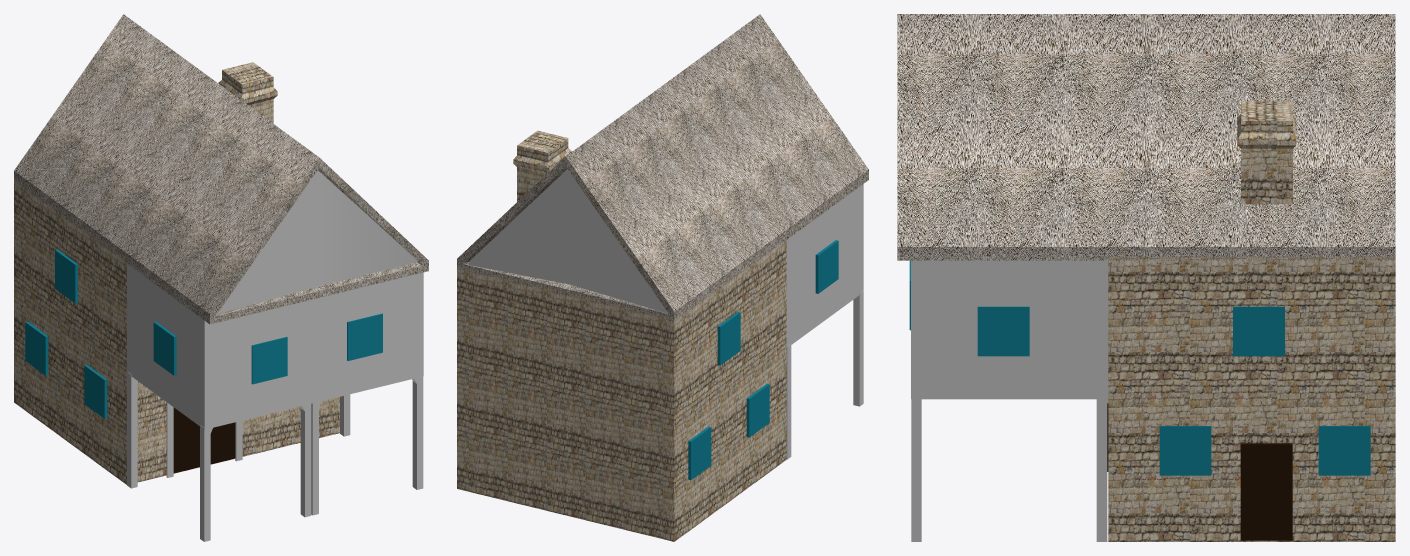
File: Maison3.FBX
3 views of the same model, side by side, from view 1: azimuth 30°, elevation 25°; view 2: azimuth 150°, elevation 25°; view 3: azimuth 270°, elevation 25° (orthographic). The views are drawn at different scales.
Parts seen in each view (by area): view 1: Blacksmith; view 2: Blacksmith; view 3: Blacksmith.
Part boxes in pixels (x1,y1,x2,y2): Blacksmith: (14,14,428,541); Blacksmith: (457,14,868,541); Blacksmith: (897,14,1395,541).
Bounding box in the file's own units: 262 × 406 × 398.
